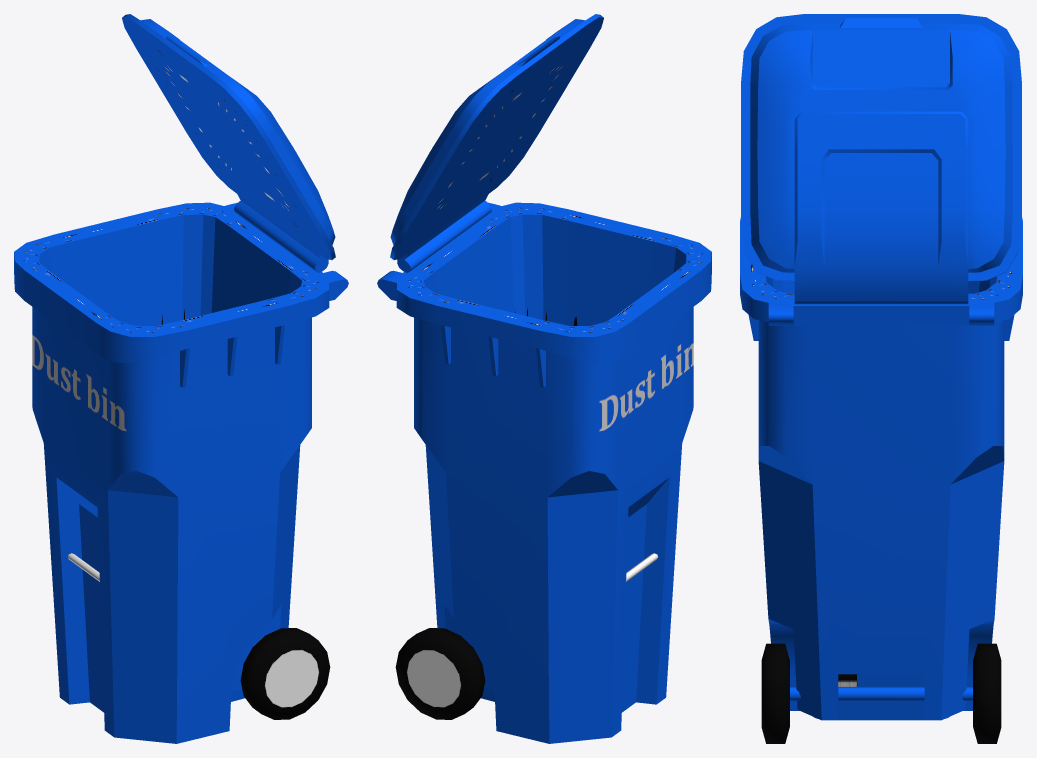
File: dust bin.fbx
The picture shows the model from 3 angles, left to right: view 1: azimuth 30°, elevation 25°; view 2: azimuth 150°, elevation 25°; view 3: azimuth 270°, elevation 25°; orthographic projection. The views are drawn at different scales.
Visible parts, largest first — view 1: dust_bin1; view 2: dust_bin1; view 3: dust_bin1.
Boxes of the visible parts, left/top/right/bottom form: dust_bin1: left=14, top=14, right=348, bottom=743; dust_bin1: left=377, top=14, right=711, bottom=743; dust_bin1: left=740, top=14, right=1022, bottom=743.
Size of the model in its own units: 0.4304 by 1.13 by 0.4171.
